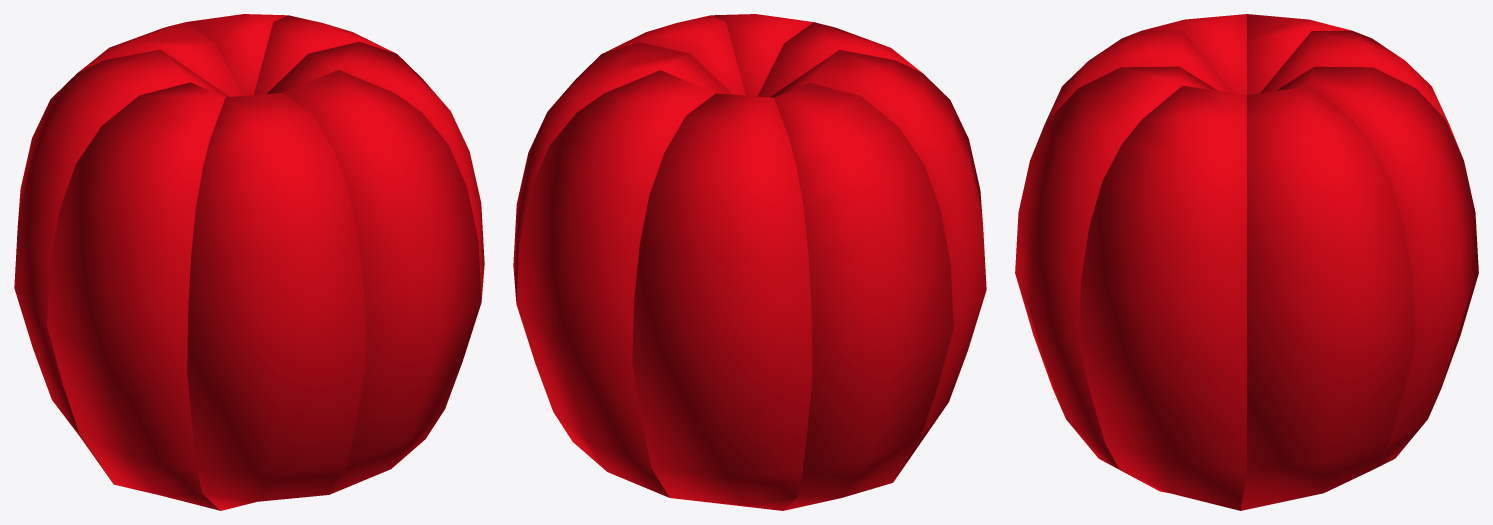
Rendered from appleslices.glb.
3 renders of one model, left to right at view 1: azimuth 30°, elevation 25°; view 2: azimuth 150°, elevation 25°; view 3: azimuth 270°, elevation 25°, orthographic.
Parts seen in each view (by area): view 1: slice4.r, slice3.r, slice4.l, slice2.r, slice3.l, slice1.r, slice2.l, slice1.l; view 2: slice1.r, slice2.r, slice1.l, slice3.r, slice2.l, slice4.r, slice3.l, slice4.l; view 3: slice2.l, slice3.l, slice4.l, slice1.l, slice1.r, slice4.r, slice2.r, slice3.r.
Boxes of the visible parts, box(x1,y1,x2,y2) form: slice4.r: box(187, 93, 366, 510); slice3.r: box(47, 82, 225, 510); slice4.l: box(284, 70, 481, 494); slice2.r: box(14, 49, 229, 479); slice3.l: box(266, 41, 484, 299); slice1.r: box(78, 22, 241, 96); slice2.l: box(253, 15, 396, 94); slice1.l: box(186, 14, 287, 95); slice1.r: box(632, 93, 812, 510); slice2.r: box(774, 83, 953, 510); slice1.l: box(516, 70, 715, 497); slice3.r: box(770, 50, 986, 479); slice2.l: box(513, 42, 732, 301); slice4.r: box(757, 22, 921, 97); slice3.l: box(602, 15, 745, 95); slice4.l: box(711, 14, 813, 96); slice2.l: box(1240, 85, 1415, 510); slice3.l: box(1078, 85, 1246, 510); slice4.l: box(1015, 66, 1217, 489); slice1.l: box(1276, 66, 1478, 468); slice1.r: box(1260, 30, 1462, 157); slice4.r: box(1031, 30, 1233, 157); slice2.r: box(1247, 14, 1351, 94); slice3.r: box(1142, 14, 1246, 94).
Size of the model in its own units: 1.77 by 1.71 by 1.77.
